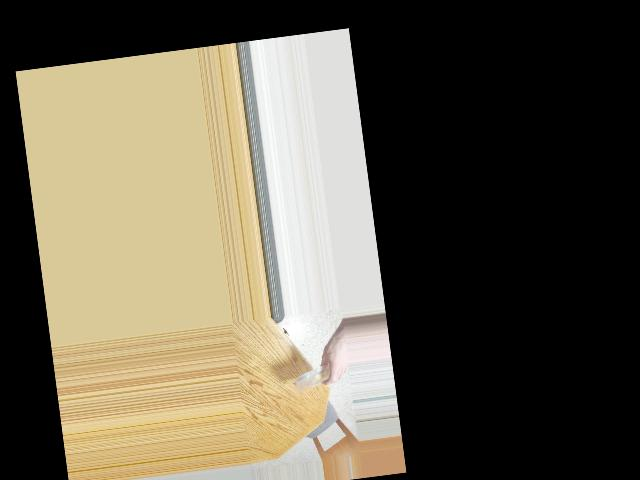cheese: (297, 363, 332, 395)
